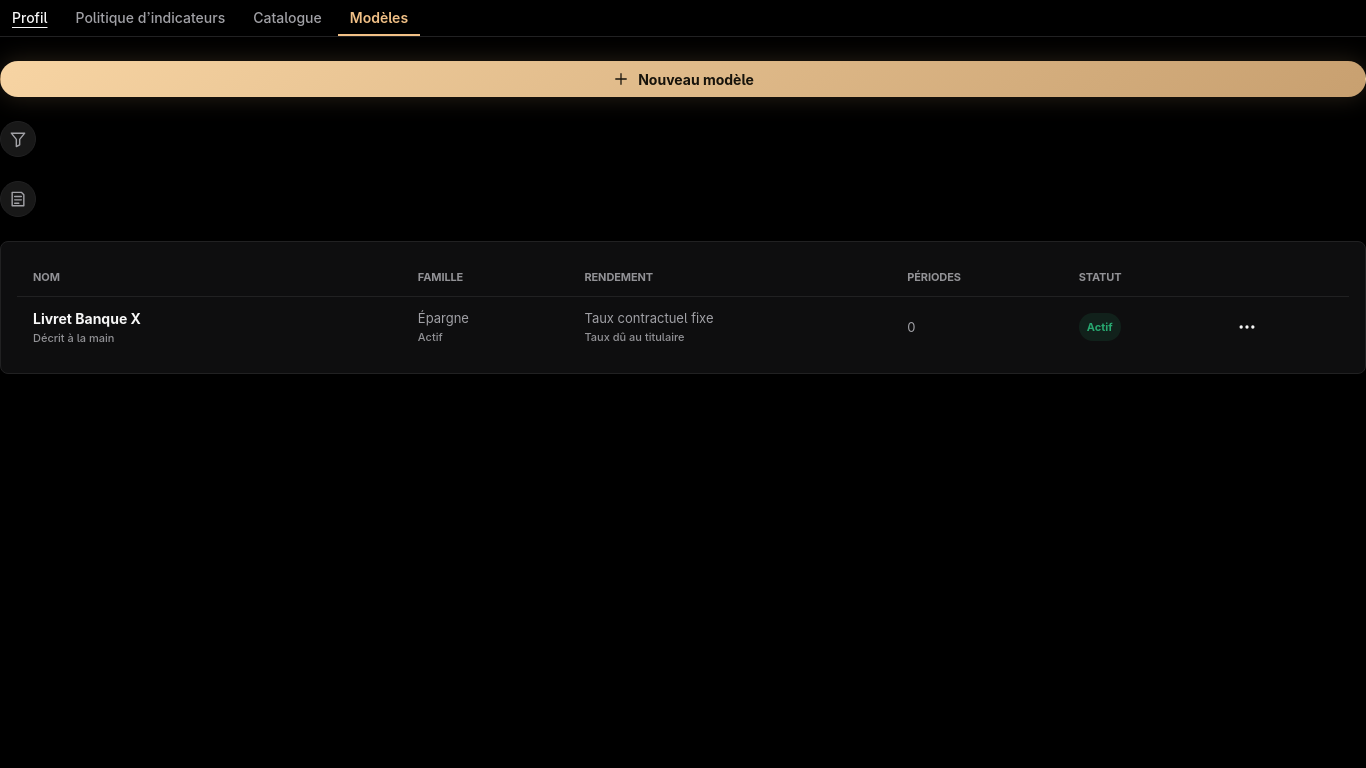
ProductModelsPage › duplicates a model by name and archives one through a confirmation
The image size is (1366, 768).
Click the button named "Actions du modèle Livret Banque X" at (1247, 327), box top-left (1229, 309), bottom-right (1265, 345)
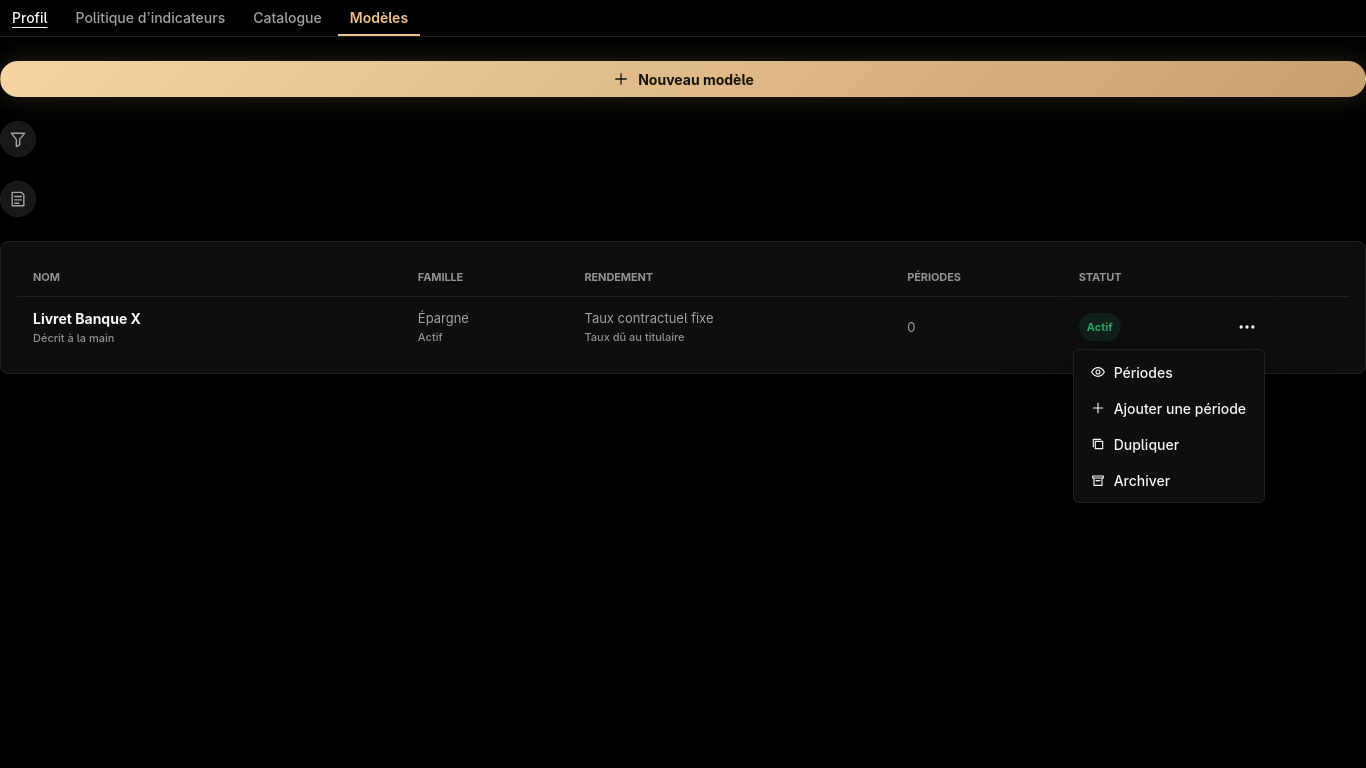
Click the button with aria-label "Dupliquer le modèle Livret Banque X" at (1169, 444), box top-left (1078, 426), bottom-right (1260, 462)
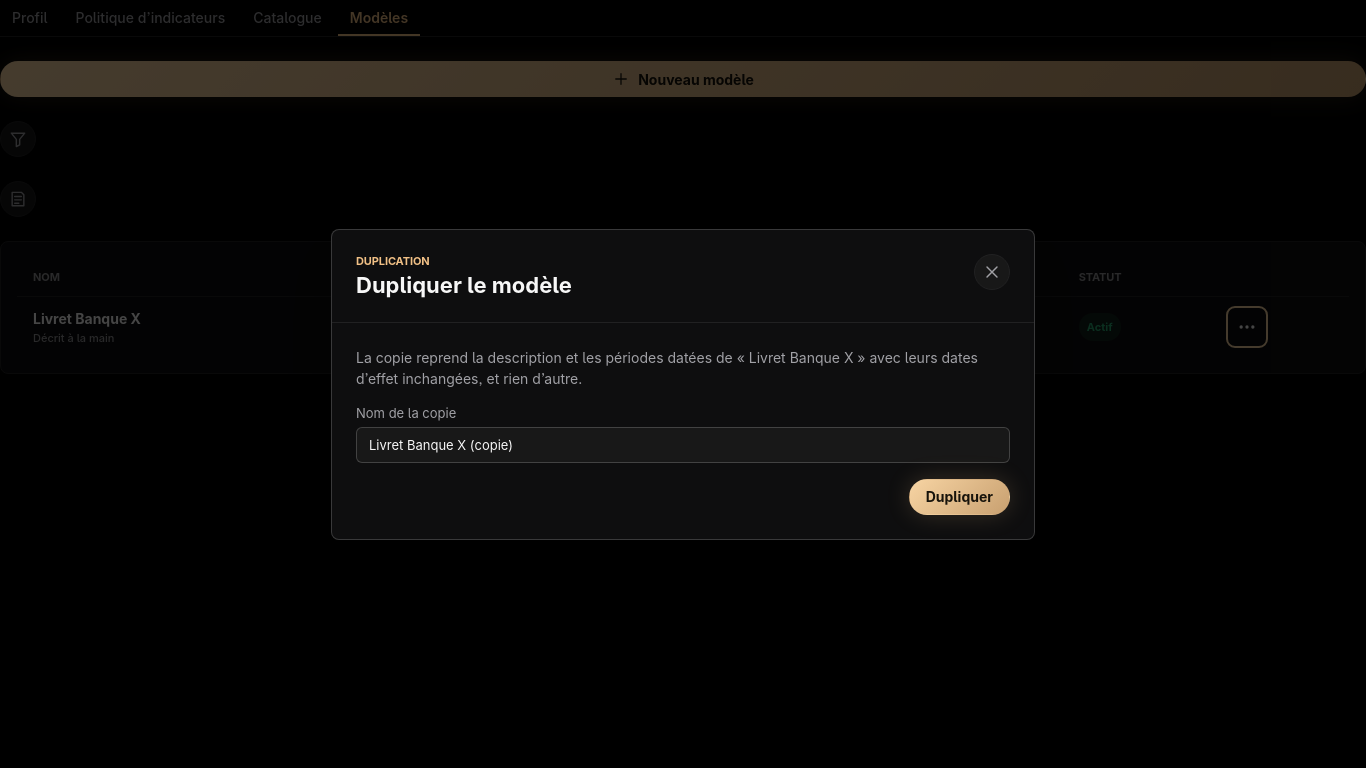
expect the field labelled "Nom de la copie" holds "Livret Banque X (copie)": met, box top-left (356, 426), bottom-right (1010, 462)
Click the button "Dupliquer" at (959, 496), box top-left (909, 478), bottom-right (1010, 514)
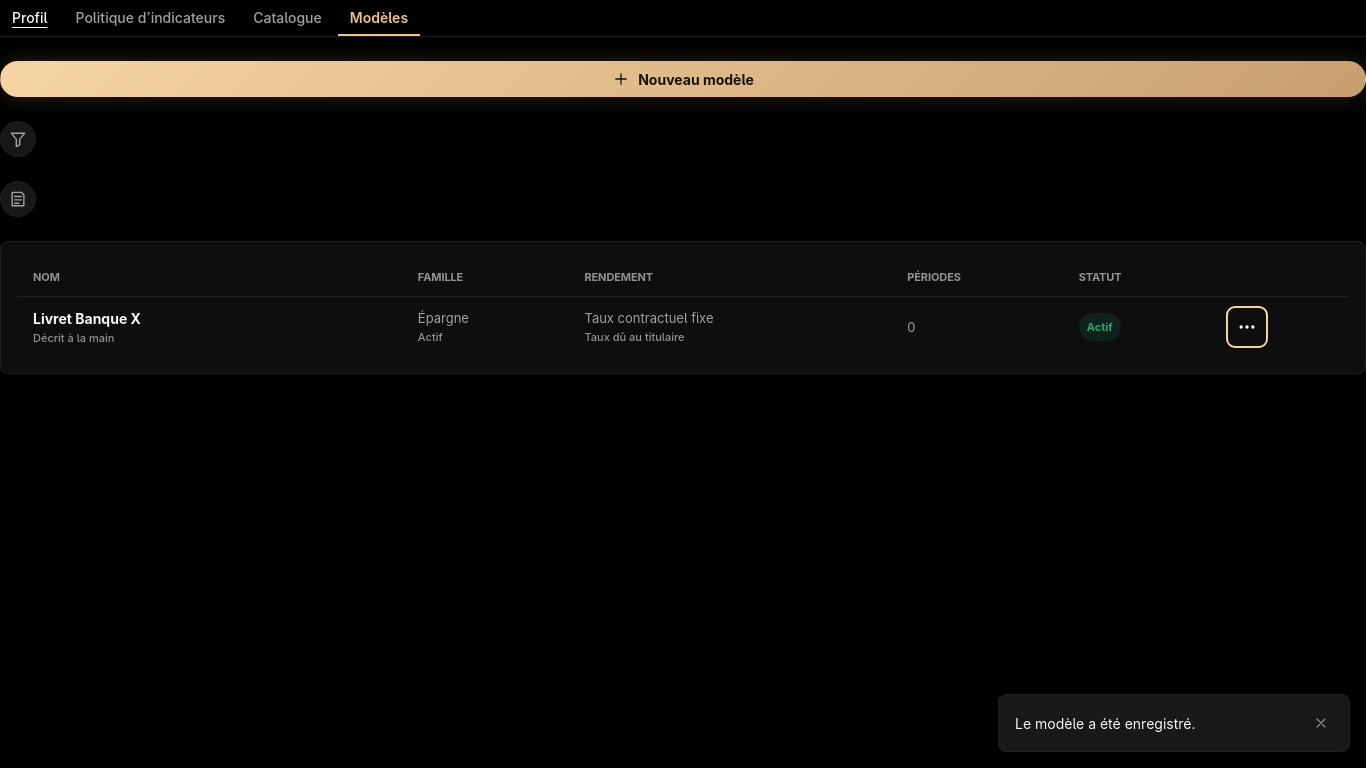
Click the button named "Actions du modèle Livret Banque X" at (1247, 327), box top-left (1229, 309), bottom-right (1265, 345)
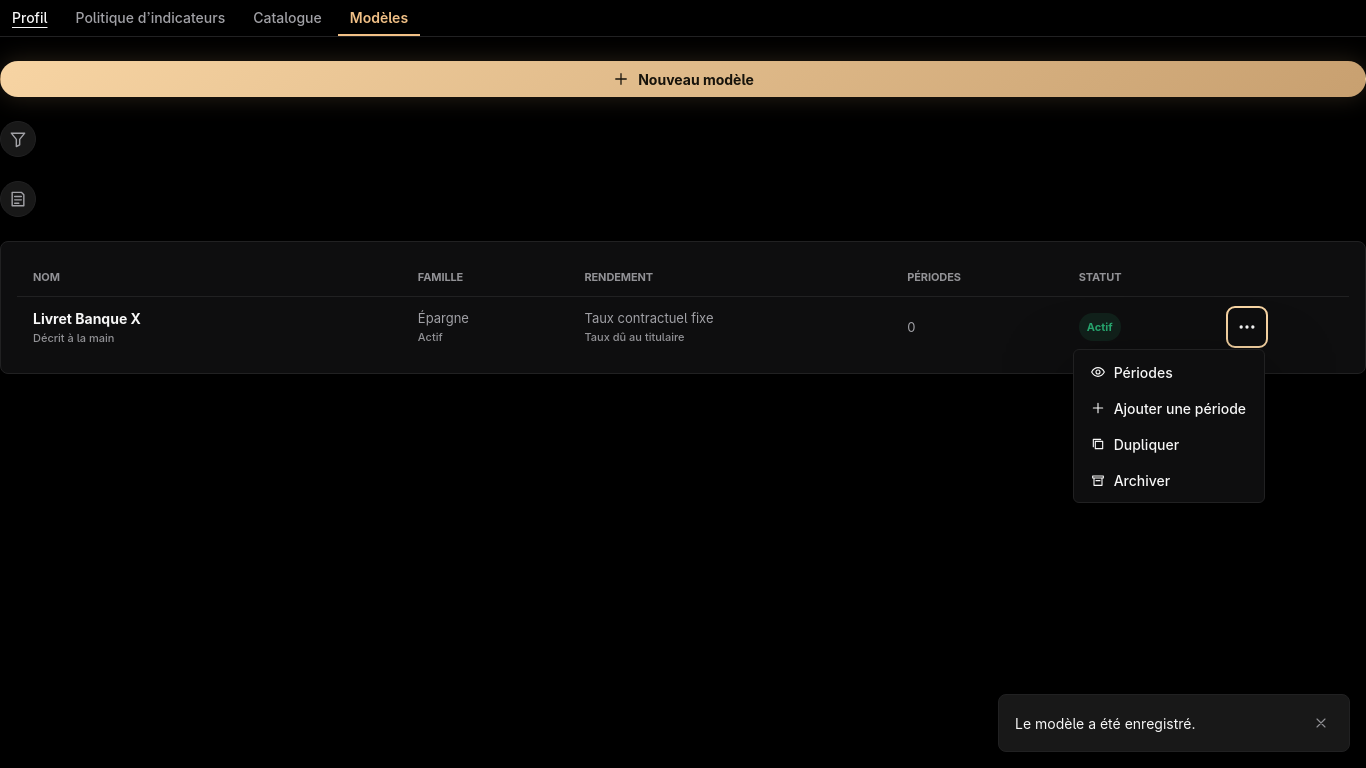
Click the button with aria-label "Archiver le modèle Livret Banque X" at (1169, 480), box top-left (1078, 462), bottom-right (1260, 498)
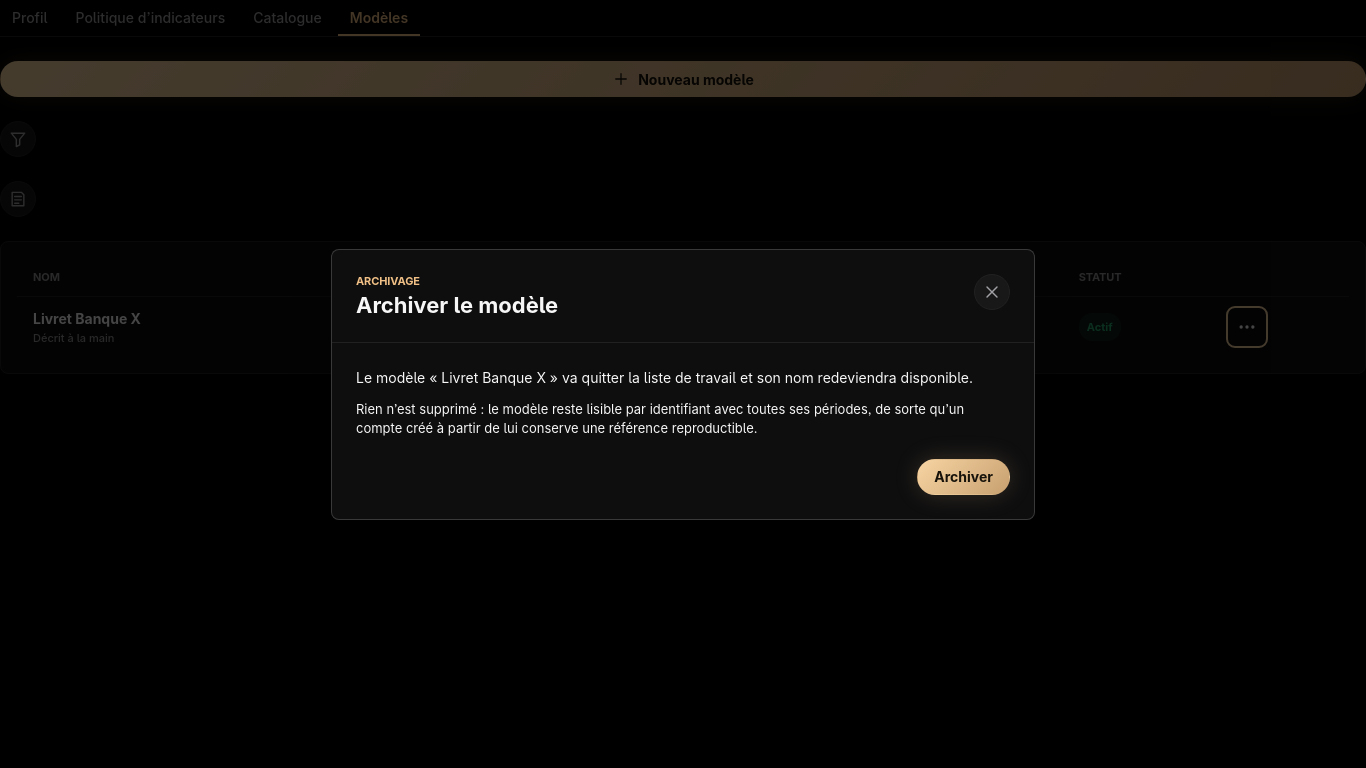
expect the dialog "Archiver le modèle" is shown: met, box top-left (331, 248), bottom-right (1035, 520)
Click the button "Archiver" at (964, 476), box top-left (917, 458), bottom-right (1010, 494)
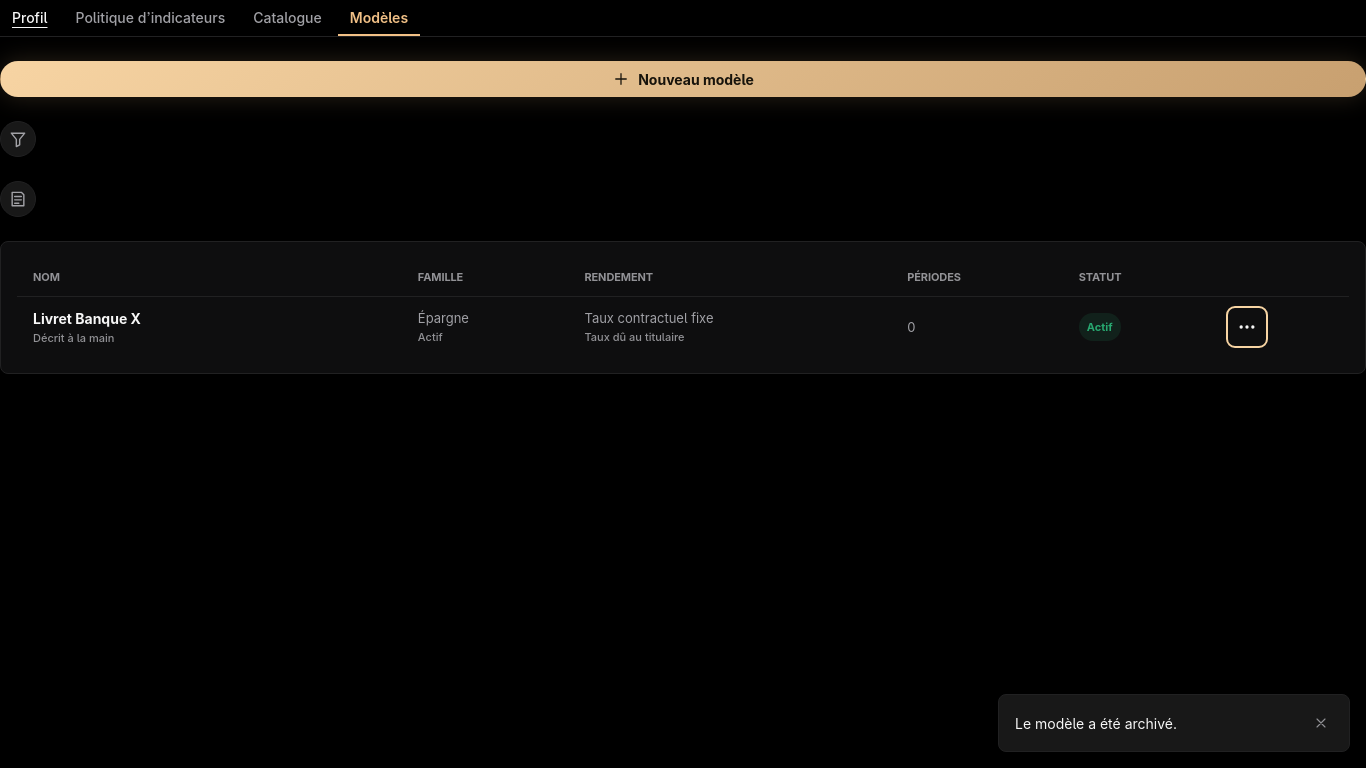
expect the text "Le modèle a été archivé." is shown: met, box top-left (1015, 714), bottom-right (1177, 732)
